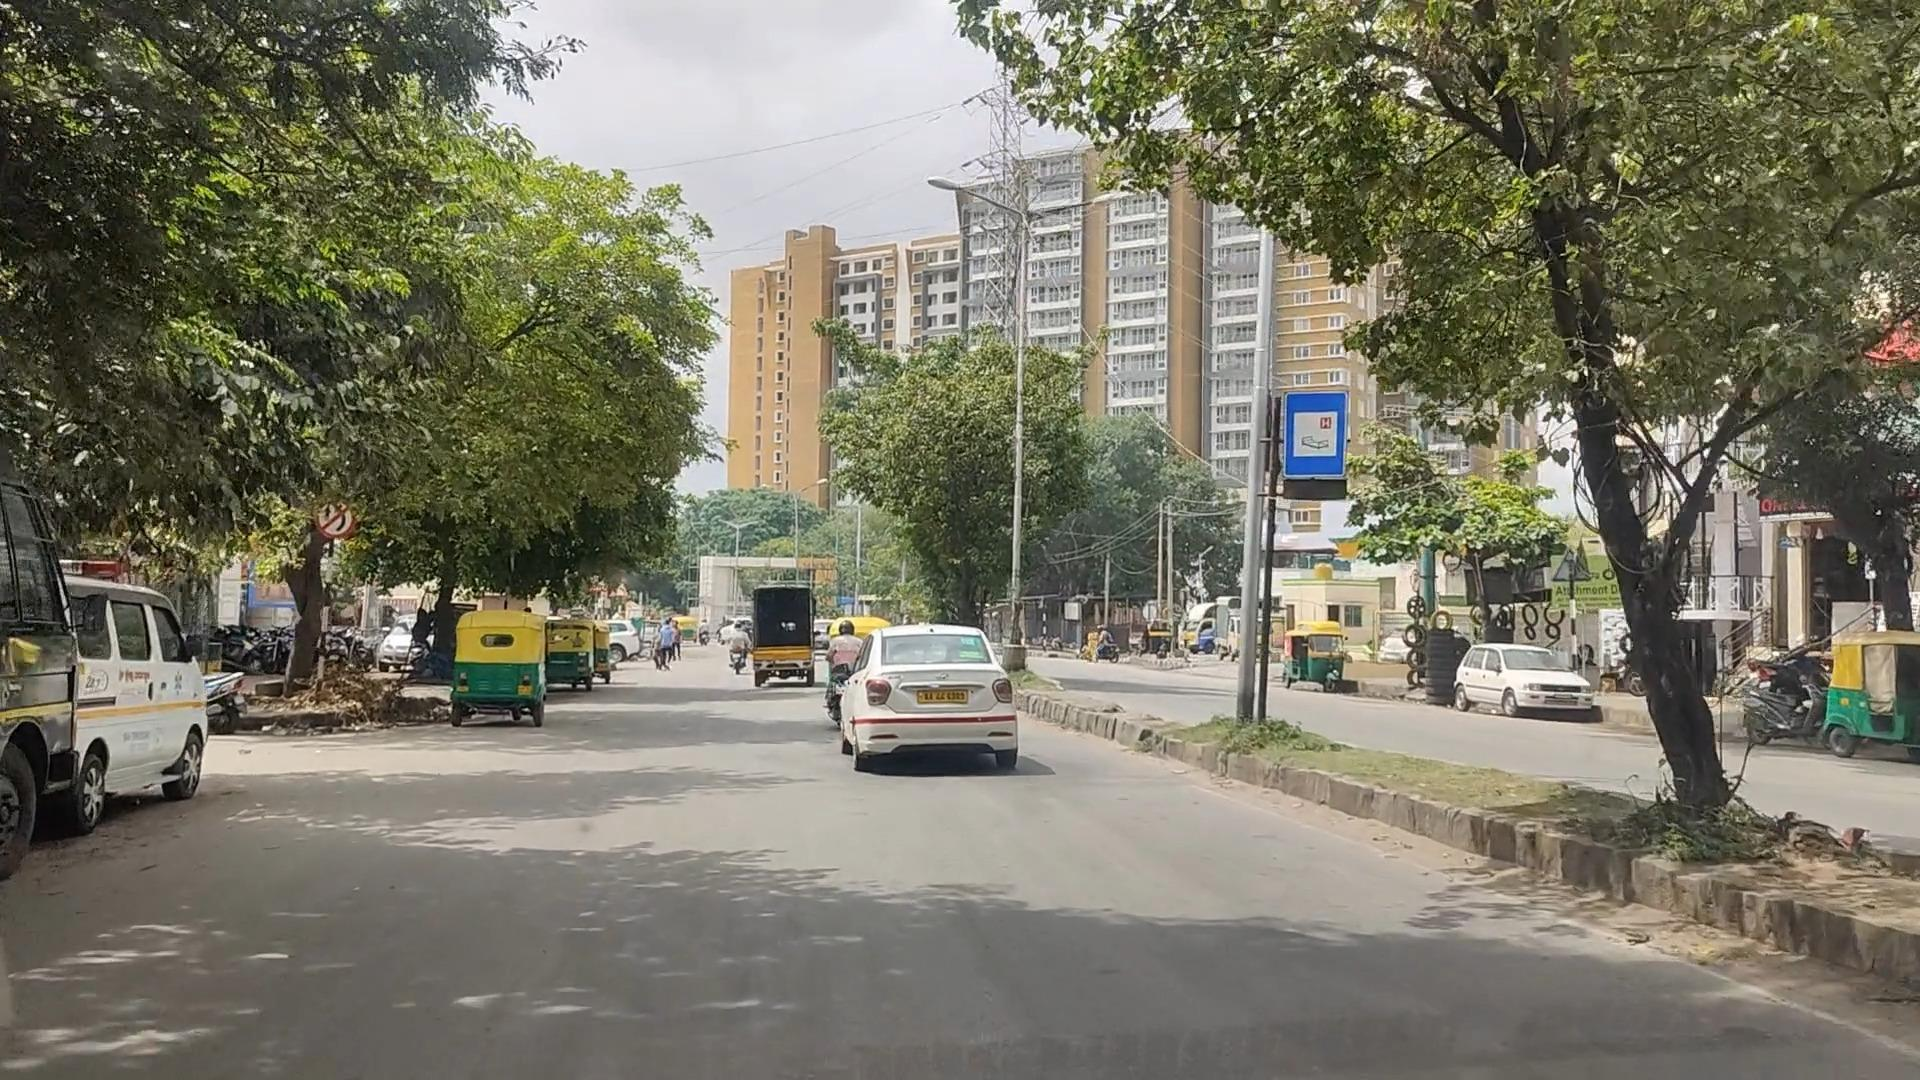LMV: (840, 626, 1022, 762), (455, 607, 545, 724)
